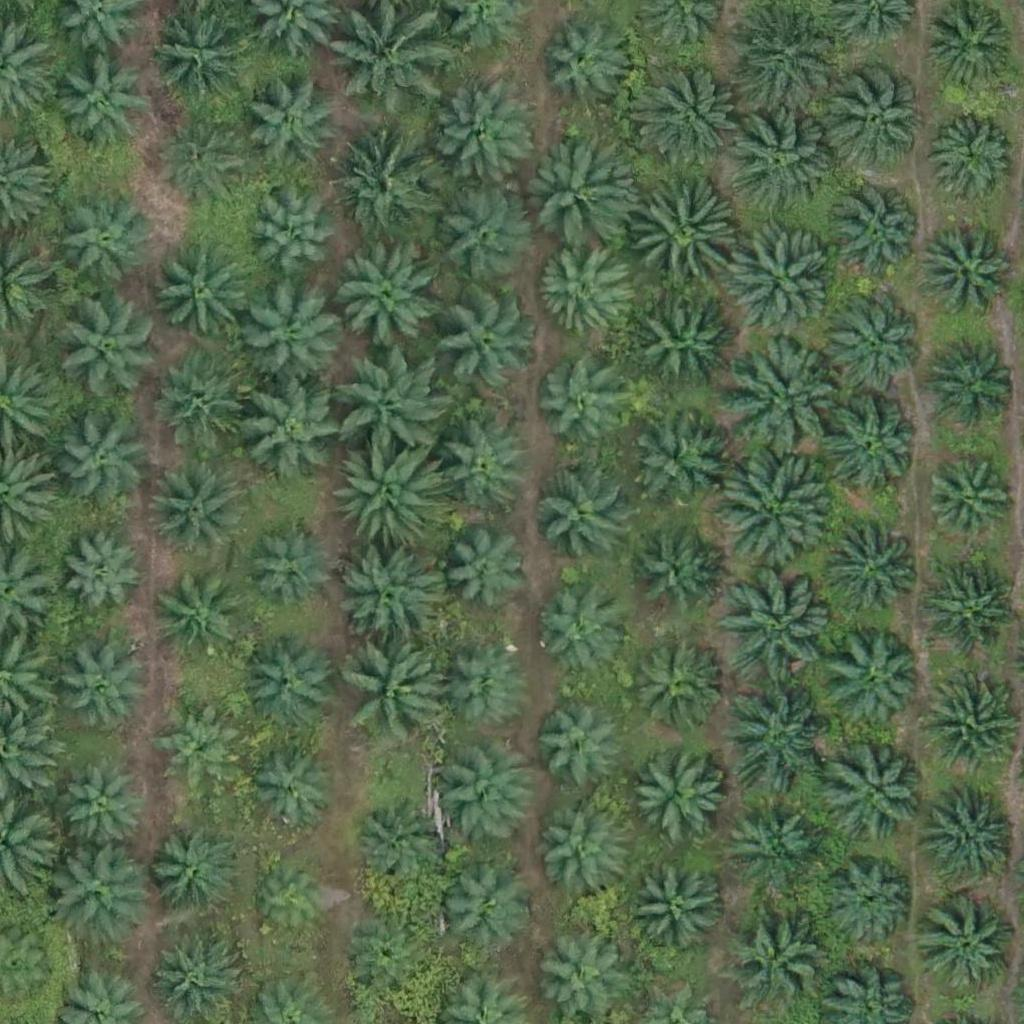Kelapa_Sawit: (630, 56, 743, 170), (724, 104, 837, 218), (53, 290, 166, 404), (716, 454, 829, 567), (729, 338, 842, 451), (720, 224, 833, 337), (334, 347, 447, 460), (334, 5, 446, 119), (624, 183, 736, 296), (717, 681, 829, 794), (723, 570, 835, 683), (617, 406, 729, 519), (331, 440, 443, 553), (50, 51, 150, 152), (152, 106, 252, 207), (154, 9, 254, 110), (241, 74, 341, 175), (332, 138, 432, 239), (427, 86, 527, 187), (520, 137, 620, 238), (53, 843, 153, 944), (346, 645, 446, 746), (353, 793, 453, 894), (626, 860, 726, 961), (628, 741, 728, 842), (624, 632, 724, 733), (723, 793, 823, 894), (726, 904, 826, 1005), (820, 627, 920, 728), (918, 895, 1018, 996), (919, 671, 1019, 772), (921, 559, 1021, 660), (820, 392, 920, 493), (818, 518, 918, 619), (638, 298, 738, 399), (530, 466, 630, 567), (536, 355, 636, 456), (436, 294, 536, 395), (433, 416, 533, 517), (335, 242, 435, 343), (242, 286, 342, 387), (153, 243, 253, 344), (50, 189, 150, 289), (427, 184, 527, 284), (831, 66, 931, 166), (823, 187, 923, 287), (236, 636, 336, 736), (243, 740, 343, 840), (436, 747, 536, 847), (825, 746, 925, 846), (917, 221, 1017, 321), (826, 294, 926, 394), (337, 548, 437, 648), (247, 385, 347, 485), (146, 460, 246, 560), (153, 352, 253, 452), (152, 832, 240, 921), (927, 108, 1015, 196), (62, 767, 150, 855), (155, 575, 243, 663), (155, 702, 243, 790), (348, 917, 436, 1005), (438, 644, 526, 732), (439, 865, 527, 953), (536, 702, 624, 790), (536, 809, 624, 897), (923, 460, 1011, 548), (631, 527, 719, 615), (538, 250, 626, 338), (242, 528, 330, 616), (250, 198, 337, 286), (540, 16, 627, 104), (59, 646, 146, 734), (825, 857, 912, 945), (529, 591, 616, 679), (440, 523, 527, 611), (60, 418, 147, 506), (61, 526, 148, 614), (255, 865, 330, 941)
